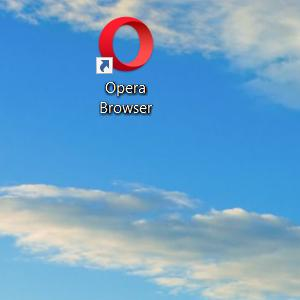opera: (95, 16, 153, 75)
